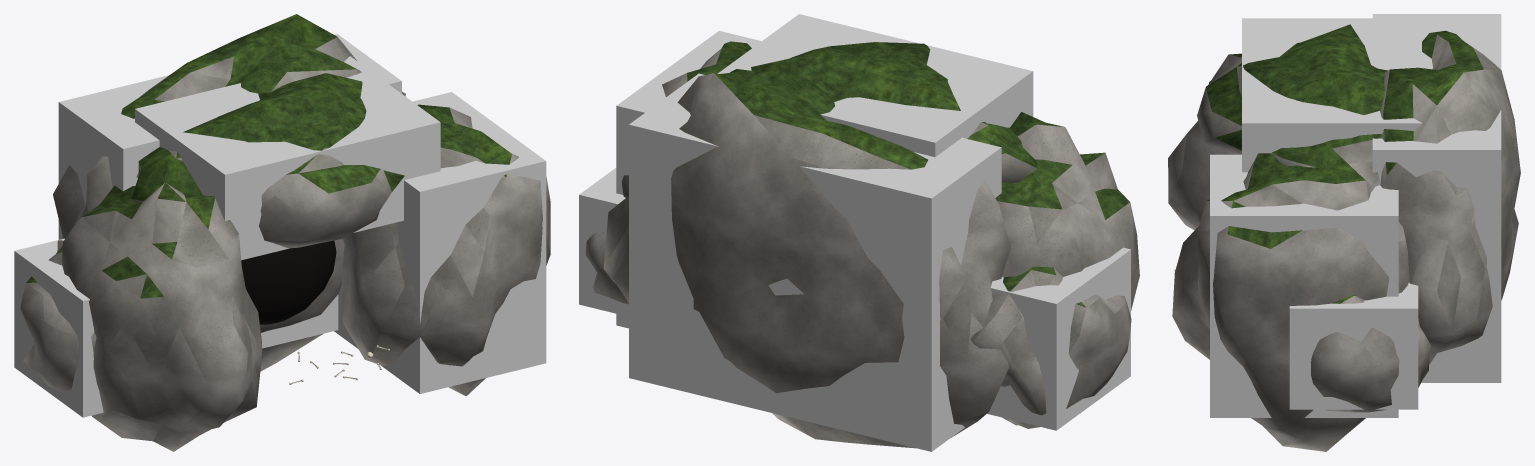
Rendered from cave_mouth.glb.
3 renders of one model, left to right at view 1: azimuth 30°, elevation 25°; view 2: azimuth 150°, elevation 25°; view 3: azimuth 270°, elevation 25°, orthographic. The views are drawn at different scales.
Parts seen in each view (by area): view 1: CaveRocks, CaveRock-convcolonly.002, CaveRock-convcolonly.001, CaveRock-convcolonly.003, CaveRock-convcolonly.004, CaveDark; view 2: CaveRocks, CaveRock-convcolonly.003, CaveRock-convcolonly.002, CaveRock-convcolonly.004, CaveRock-convcolonly.001, CaveRock-convcolonly.005; view 3: CaveRocks, CaveRock-convcolonly.003, CaveRock-convcolonly.002, CaveRock-convcolonly.001, CaveRock-convcolonly.005.
Boxes of the visible parts, x1,y1,x2,y2 form: CaveRocks: (20,14,550,451); CaveRock-convcolonly.002: (135,56,440,260); CaveRock-convcolonly.001: (334,92,546,393); CaveRock-convcolonly.003: (58,34,401,348); CaveRock-convcolonly.004: (14,238,103,417); CaveDark: (241,240,336,324); CaveRocks: (585,41,1139,448); CaveRock-convcolonly.003: (629,73,1001,451); CaveRock-convcolonly.002: (717,14,1033,156); CaveRock-convcolonly.004: (987,247,1130,430); CaveRock-convcolonly.001: (616,31,761,328); CaveRock-convcolonly.005: (579,168,628,316); CaveRocks: (1168,24,1520,451); CaveRock-convcolonly.003: (1372,14,1501,382); CaveRock-convcolonly.002: (1242,18,1421,172); CaveRock-convcolonly.001: (1210,154,1398,417); CaveRock-convcolonly.005: (1289,282,1418,409).
Size of what is drawn, in the model's own units: 20.1 by 13.59 by 12.76.
4 materials, 3 textured.
